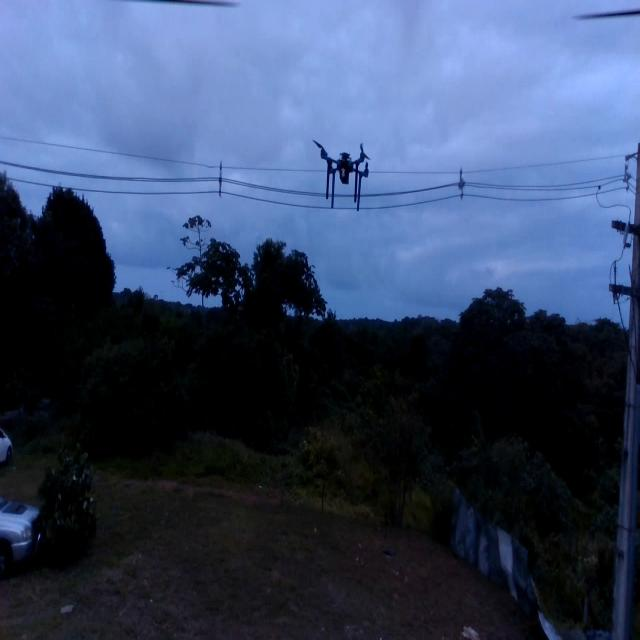-uav-: (308, 127, 381, 215)
